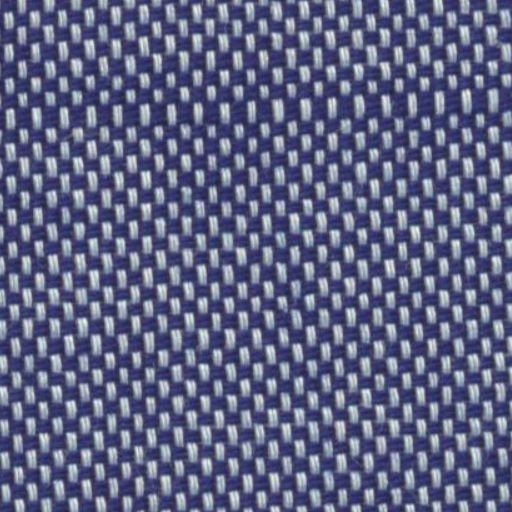TuoSha: (13, 78, 492, 146)
